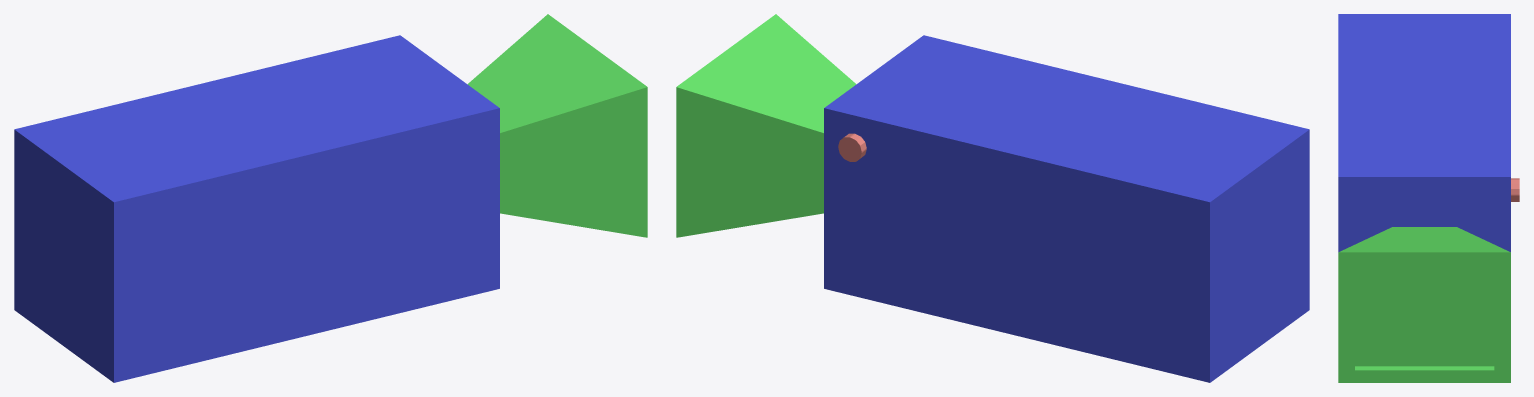
File: cameraModel.fbx
3 renders of one model, left to right at view 1: azimuth 30°, elevation 25°; view 2: azimuth 150°, elevation 25°; view 3: azimuth 270°, elevation 25°, orthographic. The views are drawn at different scales.
Visible parts, largest first — view 1: Cube, Cube.001; view 2: Cube, Cube.001; view 3: Cube, Cube.001.
Boxes of the visible parts, bbox=[...] form: Cube: bbox=[14, 35, 499, 382]; Cube.001: bbox=[467, 14, 647, 237]; Cube: bbox=[824, 35, 1309, 382]; Cube.001: bbox=[676, 14, 856, 237]; Cube: bbox=[1338, 14, 1519, 252]; Cube.001: bbox=[1338, 227, 1510, 382].
Size of the model in its own units: 250 by 80.91 by 85.06.
